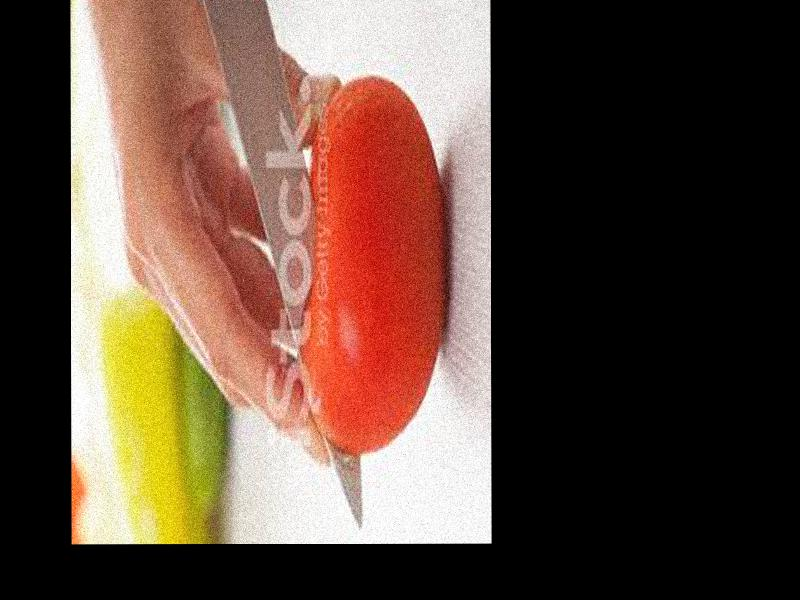Tomato: (301, 72, 448, 454)
